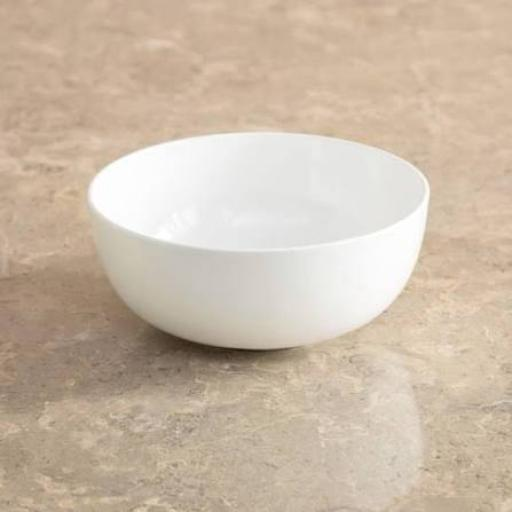Bowl: (88, 131, 430, 350)
